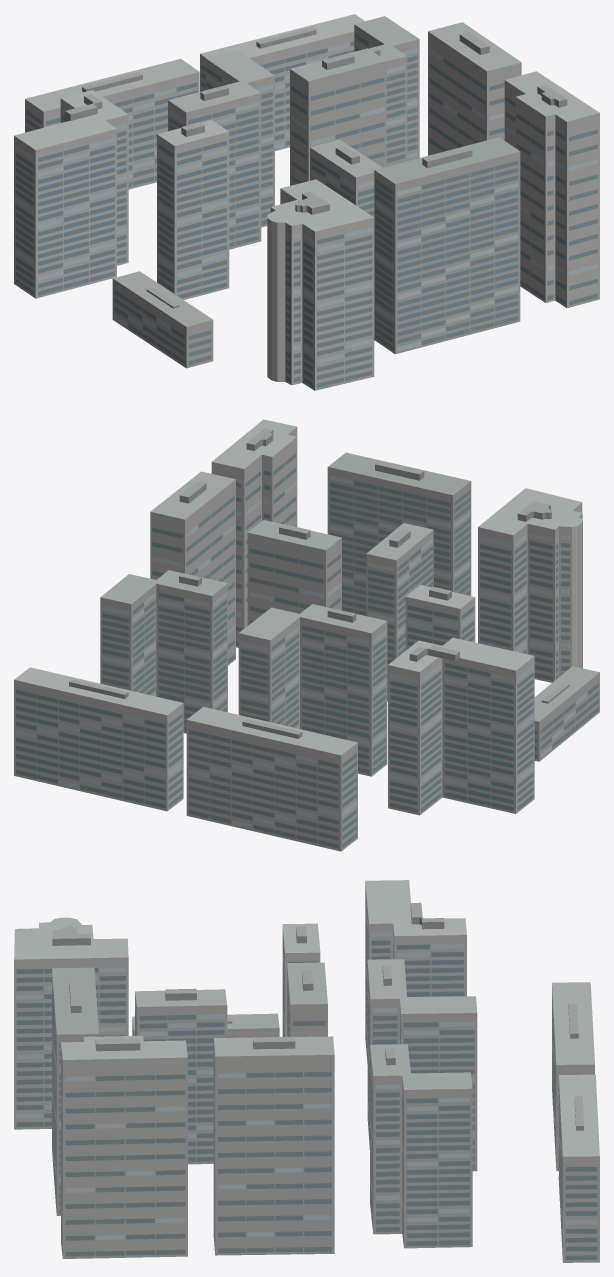
The model's file is apt-a15205108.glb.
3 renders of one model, top to bottom at view 1: azimuth 30°, elevation 25°; view 2: azimuth 150°, elevation 25°; view 3: azimuth 270°, elevation 25°, orthographic. The views are drawn at different scales.
Parts seen in each view (by area): view 1: apt-a15205108; view 2: apt-a15205108; view 3: apt-a15205108.
Part boxes in pixels (left/top/right/bottom): apt-a15205108: left=14, top=14, right=599, bottom=390; apt-a15205108: left=14, top=419, right=599, bottom=851; apt-a15205108: left=14, top=880, right=599, bottom=1262.
Size of the model in its own units: 166 by 71 by 183.
